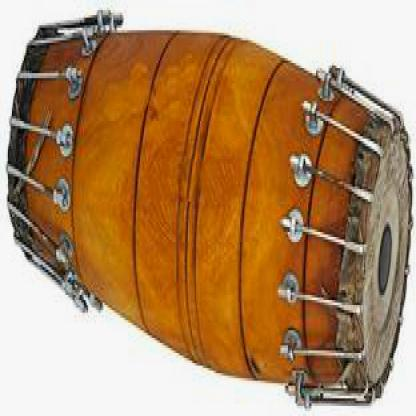Mridangam: (3, 1, 416, 415)
